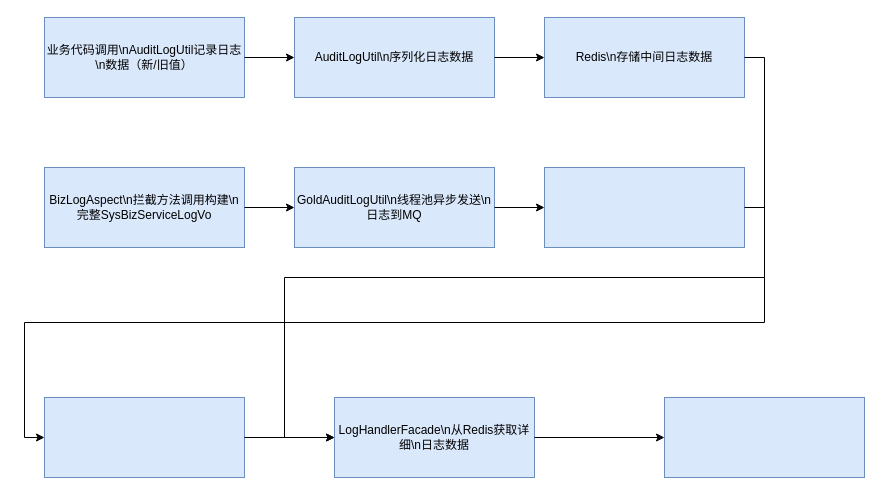
Image size: 882x495. Some labels were removed from this diagram. Each missing label, with the centre of its shape:
"BizLogConsumer\n消费MQ日志消息" goes at pixel 144 437.
"Message Queue\n（BIZ_LOG_TOPIC）\n存储日志消息" goes at pixel 644 207.
"SysBizServiceLog\nService\n持久化到DB" goes at pixel 764 437.
